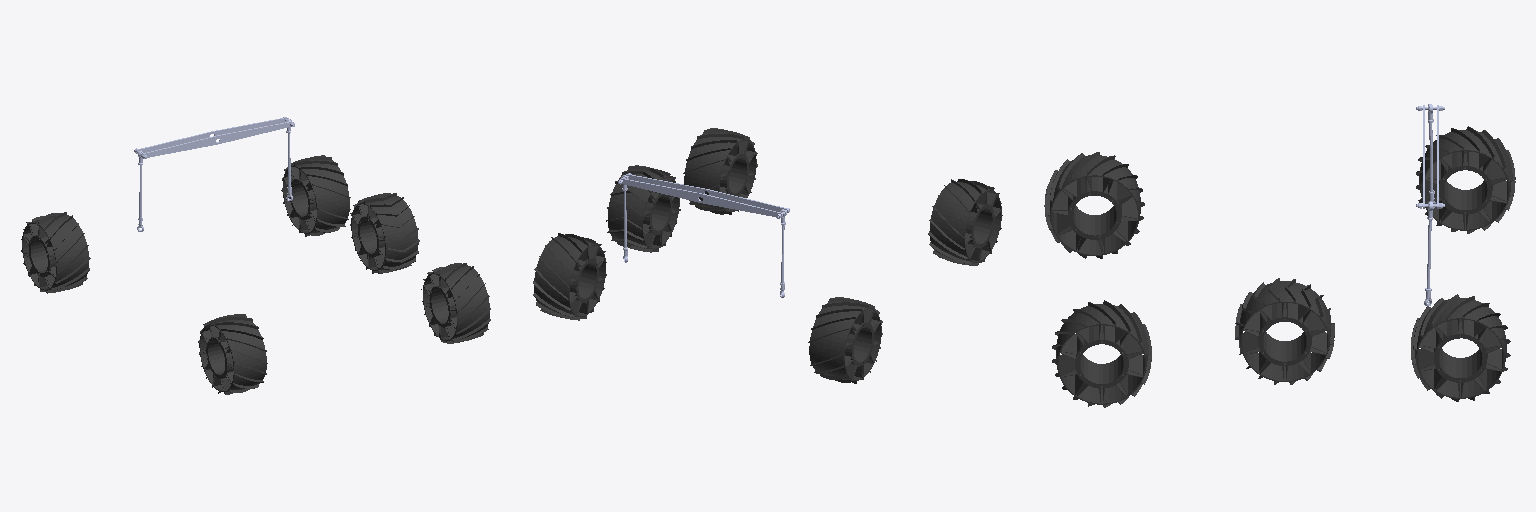
URDF robot description (roar_description_updated):
<?xml version="1.0" encoding="utf-8"?>
<!-- This URDF was automatically created by SolidWorks to URDF Exporter! Originally created by [author] ([email redacted]) 
     Commit Version: 1.6.0-4-g7f85cfe  Build Version: 1.6.7995.38578
     For more information, please see http://wiki.ros.org/sw_urdf_exporter -->
<robot
  name="roar_description_updated">
  <link
    name="base_link">
    <inertial>
      <origin
        xyz="0.639439897196177 0.209598701398295 0.110588587677082"
        rpy="0 0 0" />
      <mass
        value="10.3680124757211" />
      <inertia
        ixx="0.0528250367040668"
        ixy="8.71689026075609E-07"
        ixz="0.000283179916016542"
        iyy="0.0909179109331537"
        iyz="0.000142215895339947"
        izz="0.0532087062110425" />
    </inertial>
    <visual>
      <origin
        xyz="0 0 0"
        rpy="0 0 0" />
      <geometry>
        <mesh
          filename="package://roar_full_sus_description/meshes/base_link.STL" />
      </geometry>
      <material
        name="">
        <color
          rgba="0.792156862745098 0.819607843137255 0.933333333333333 1" />
      </material>
    </visual>
    <collision>
      <origin
        xyz="0 0 0"
        rpy="0 0 0" />
      <geometry>
        <mesh
          filename="package://roar_full_sus_description/meshes/base_link.STL" />
      </geometry>
    </collision>
  </link>
  <link
    name="rocker_rhs">
    <inertial>
      <origin
        xyz="0.131115408774192 -0.262565278318048 -0.347598485550028"
        rpy="0 0 0" />
      <mass
        value="1.55415245189339" />
      <inertia
        ixx="0.00469688806119508"
        ixy="-4.75066357212463E-05"
        ixz="-6.63077736578023E-05"
        iyy="0.00423596200810898"
        iyz="-0.00126576919537019"
        izz="0.00312774605369064" />
    </inertial>
    <visual>
      <origin
        xyz="0 0 0"
        rpy="0 0 0" />
      <geometry>
        <mesh
          filename="package://roar_full_sus_description/meshes/rocker_rhs.STL" />
      </geometry>
      <material
        name="">
        <color
          rgba="0.792156862745098 0.819607843137255 0.933333333333333 1" />
      </material>
    </visual>
    <collision>
      <origin
        xyz="0 0 0"
        rpy="0 0 0" />
      <geometry>
        <mesh
          filename="package://roar_full_sus_description/meshes/rocker_rhs.STL" />
      </geometry>
    </collision>
  </link>
  <joint
    name="rocker_rhs_joint"
    type="continuous">
    <origin
      xyz="0.155185537041214 -0.184563975751285 0.205488319881198"
      rpy="1.59483532922579 0 0" />
    <parent
      link="base_link" />
    <child
      link="rocker_rhs" />
    <axis
      xyz="1 0 0" />
  </joint>
  <link
    name="bogie_rhs">
    <inertial>
      <origin
        xyz="0.119070117211605 -0.14701039637998 0.00428618478986925"
        rpy="0 0 0" />
      <mass
        value="2.56788752677778" />
      <inertia
        ixx="0.00354223475882696"
        ixy="-9.37079105531918E-05"
        ixz="3.07031926424467E-06"
        iyy="0.00445720497043528"
        iyz="-9.23136672302244E-06"
        izz="0.00417625950740417" />
    </inertial>
    <visual>
      <origin
        xyz="0 0 0"
        rpy="0 0 0" />
      <geometry>
        <mesh
          filename="package://roar_full_sus_description/meshes/bogie_rhs.STL" />
      </geometry>
      <material
        name="">
        <color
          rgba="0.792156862745098 0.819607843137255 0.933333333333333 1" />
      </material>
    </visual>
    <collision>
      <origin
        xyz="0 0 0"
        rpy="0 0 0" />
      <geometry>
        <mesh
          filename="package://roar_full_sus_description/meshes/bogie_rhs.STL" />
      </geometry>
    </collision>
  </link>
  <joint
    name="bogie_rhs_joint"
    type="continuous">
    <origin
      xyz="0 -0.159359573468076 0.230227119045659"
      rpy="0.00791825196663619 0 0" />
    <parent
      link="rocker_rhs" />
    <child
      link="bogie_rhs" />
    <axis
      xyz="1 0 0" />
  </joint>
  <link
    name="wheel_rhs_mid">
    <inertial>
      <origin
        xyz="-1.36002320516582E-15 -0.000310098538666564 -0.0600061613680272"
        rpy="0 0 0" />
      <mass
        value="1.5976653768916" />
      <inertia
        ixx="0.00836783341696589"
        ixy="8.97177297731755E-18"
        ixz="-6.01485898202032E-16"
        iyy="0.00836775197998547"
        iyz="-6.24408080004122E-14"
        izz="0.0132446797996261" />
    </inertial>
    <visual>
      <origin
        xyz="0 0 0"
        rpy="0 0 0" />
      <geometry>
        <mesh
          filename="package://roar_full_sus_description/meshes/wheel_rhs_mid.STL" />
      </geometry>
      <material
        name="">
        <color
          rgba="0.298039215686275 0.298039215686275 0.298039215686275 1" />
      </material>
    </visual>
    <collision>
      <origin
        xyz="0 0 0"
        rpy="0 0 0" />
      <geometry>
        <mesh
          filename="package://roar_full_sus_description/meshes/wheel_rhs_mid.STL" />
      </geometry>
    </collision>
  </link>
  <joint
    name="wheel_rhs_mid_joint"
    type="continuous">
    <origin
      xyz="0.0149938388979723 -0.168040322890301 -0.223969764917061"
      rpy="-1.57079632679473 -1.55435634248108 1.57079632679473" />
    <parent
      link="bogie_rhs" />
    <child
      link="wheel_rhs_mid" />
    <axis
      xyz="0 0 1" />
  </joint>
  <link
    name="wheel_rhs_front">
    <inertial>
      <origin
        xyz="2.44249065417534E-15 -0.000305735305073218 -0.0617344149234702"
        rpy="0 0 0" />
      <mass
        value="1.55166626304695" />
      <inertia
        ixx="0.00800333368012876"
        ixy="-1.8550699171227E-16"
        ixz="1.11526988190499E-16"
        iyy="0.00800325326915848"
        iyz="2.695202927055E-12"
        izz="0.0125934306153834" />
    </inertial>
    <visual>
      <origin
        xyz="0 0 0"
        rpy="0 0 0" />
      <geometry>
        <mesh
          filename="package://roar_full_sus_description/meshes/wheel_rhs_front.STL" />
      </geometry>
      <material
        name="">
        <color
          rgba="0.298039215686275 0.298039215686275 0.298039215686275 1" />
      </material>
    </visual>
    <collision>
      <origin
        xyz="0 0 0"
        rpy="0 0 0" />
      <geometry>
        <mesh
          filename="package://roar_full_sus_description/meshes/wheel_rhs_front.STL" />
      </geometry>
    </collision>
  </link>
  <joint
    name="wheel_rhs_front_joint"
    type="continuous">
    <origin
      xyz="0.0132607736164889 -0.152989560052285 0.234508422512043"
      rpy="1.57079632679488 -1.3957417720161 -1.57079632679488" />
    <parent
      link="bogie_rhs" />
    <child
      link="wheel_rhs_front" />
    <axis
      xyz="0 0 1" />
  </joint>
  <link
    name="wheel_rhs_rear">
    <inertial>
      <origin
        xyz="-5.99520433297585E-15 -0.000151545638864561 0.0600156448463669"
        rpy="0 0 0" />
      <mass
        value="1.55167119278224" />
      <inertia
        ixx="0.00800323403290154"
        ixy="4.08213774929248E-17"
        ixz="2.90847103319624E-17"
        iyy="0.00800315362181799"
        iyz="-1.09712860745546E-10"
        izz="0.0125935069824426" />
    </inertial>
    <visual>
      <origin
        xyz="0 0 0"
        rpy="0 0 0" />
      <geometry>
        <mesh
          filename="package://roar_full_sus_description/meshes/wheel_rhs_rear.STL" />
      </geometry>
      <material
        name="">
        <color
          rgba="0.298039215686275 0.298039215686275 0.298039215686275 1" />
      </material>
    </visual>
    <collision>
      <origin
        xyz="0 0 0"
        rpy="0 0 0" />
      <geometry>
        <mesh
          filename="package://roar_full_sus_description/meshes/wheel_rhs_rear.STL" />
      </geometry>
    </collision>
  </link>
  <joint
    name="wheel_rhs_rear_joint"
    type="continuous">
    <origin
      xyz="0.0149848217212077 -0.323677087326028 -0.456982663312619"
      rpy="1.5707963267949 -1.546757324364 1.5707963267949" />
    <parent
      link="rocker_rhs" />
    <child
      link="wheel_rhs_rear" />
    <axis
      xyz="0 0 1" />
  </joint>
  <link
    name="rocker_lhs">
    <inertial>
      <origin
        xyz="0.114353485174162 -0.258908243049005 -0.349969613571573"
        rpy="0 0 0" />
      <mass
        value="1.55450622927243" />
      <inertia
        ixx="0.00469693112112497"
        ixy="4.6849930297672E-05"
        ixz="6.67737425664241E-05"
        iyy="0.00426118802832534"
        iyz="-0.00125443777455625"
        izz="0.00310258328319199" />
    </inertial>
    <visual>
      <origin
        xyz="0 0 0"
        rpy="0 0 0" />
      <geometry>
        <mesh
          filename="package://roar_full_sus_description/meshes/rocker_lhs.STL" />
      </geometry>
      <material
        name="">
        <color
          rgba="0.792156862745098 0.819607843137255 0.933333333333333 1" />
      </material>
    </visual>
    <collision>
      <origin
        xyz="0 0 0"
        rpy="0 0 0" />
      <geometry>
        <mesh
          filename="package://roar_full_sus_description/meshes/rocker_lhs.STL" />
      </geometry>
    </collision>
  </link>
  <joint
    name="rocker_lhs_joint"
    type="continuous">
    <origin
      xyz="0.888680737041209 -0.184563975751285 0.205488319881198"
      rpy="1.54676323410663 0 0" />
    <parent
      link="base_link" />
    <child
      link="rocker_lhs" />
    <axis
      xyz="1 0 0" />
  </joint>
  <link
    name="bogie_lhs">
    <inertial>
      <origin
        xyz="-0.121779873984684 -0.147010375694811 0.0042861844014257"
        rpy="0 0 0" />
      <mass
        value="2.56788785839281" />
      <inertia
        ixx="0.0035422335391282"
        ixy="-9.37079063515802E-05"
        ixz="3.07031970176367E-06"
        iyy="0.00445720400232866"
        iyz="-9.23135123405275E-06"
        izz="0.00417625930663999" />
    </inertial>
    <visual>
      <origin
        xyz="0 0 0"
        rpy="0 0 0" />
      <geometry>
        <mesh
          filename="package://roar_full_sus_description/meshes/bogie_lhs.STL" />
      </geometry>
      <material
        name="">
        <color
          rgba="0.792156862745098 0.819607843137255 0.933333333333333 1" />
      </material>
    </visual>
    <collision>
      <origin
        xyz="0 0 0"
        rpy="0 0 0" />
      <geometry>
        <mesh
          filename="package://roar_full_sus_description/meshes/bogie_lhs.STL" />
      </geometry>
    </collision>
  </link>
  <joint
    name="bogie_lhs_joint"
    type="continuous">
    <origin
      xyz="0.00464520000000102 -0.16165350255828 0.228622276059538"
      rpy="3.01538682395243 0 3.14159265358979" />
    <parent
      link="rocker_lhs" />
    <child
      link="bogie_lhs" />
    <axis
      xyz="1 0 0" />
  </joint>
  <link
    name="wheel_lhs_mid">
    <inertial>
      <origin
        xyz="-1.13797860024079E-15 0.000310098538664275 0.0600061613680265"
        rpy="0 0 0" />
      <mass
        value="1.59766537689162" />
      <inertia
        ixx="0.0083678334169661"
        ixy="1.40469536390937E-16"
        ixz="-2.31970124591998E-16"
        iyy="0.0083677519799858"
        iyz="-6.25205615187925E-14"
        izz="0.0132446797996263" />
    </inertial>
    <visual>
      <origin
        xyz="0 0 0"
        rpy="0 0 0" />
      <geometry>
        <mesh
          filename="package://roar_full_sus_description/meshes/wheel_lhs_mid.STL" />
      </geometry>
      <material
        name="">
        <color
          rgba="0.298039215686275 0.298039215686275 0.298039215686275 1" />
      </material>
    </visual>
    <collision>
      <origin
        xyz="0 0 0"
        rpy="0 0 0" />
      <geometry>
        <mesh
          filename="package://roar_full_sus_description/meshes/wheel_lhs_mid.STL" />
      </geometry>
    </collision>
  </link>
  <joint
    name="wheel_lhs_mid_joint"
    type="continuous">
    <origin
      xyz="-0.105848638897971 -0.152989560052285 0.234508422512043"
      rpy="-1.5707963267949 1.4686235898458 1.5707963267949" />
    <parent
      link="bogie_lhs" />
    <child
      link="wheel_lhs_mid" />
    <axis
      xyz="0 0 1" />
  </joint>
  <link
    name="wheel_lhs_front">
    <inertial>
      <origin
        xyz="3.33066907387547E-16 0.000305735786541306 0.060015644846366"
        rpy="0 0 0" />
      <mass
        value="1.55167119278224" />
      <inertia
        ixx="0.00800323403290158"
        ixy="1.50424421747868E-16"
        ixz="-3.62075991513633E-17"
        iyy="0.00800315362181788"
        iyz="-1.09712870865019E-10"
        izz="0.0125935069824427" />
    </inertial>
    <visual>
      <origin
        xyz="0 0 0"
        rpy="0 0 0" />
      <geometry>
        <mesh
          filename="package://roar_full_sus_description/meshes/wheel_lhs_front.STL" />
      </geometry>
      <material
        name="">
        <color
          rgba="0.298039215686275 0.298039215686275 0.298039215686275 1" />
      </material>
    </visual>
    <collision>
      <origin
        xyz="0 0 0"
        rpy="0 0 0" />
      <geometry>
        <mesh
          filename="package://roar_full_sus_description/meshes/wheel_lhs_front.STL" />
      </geometry>
    </collision>
  </link>
  <joint
    name="wheel_lhs_front_joint"
    type="continuous">
    <origin
      xyz="-0.105834821721208 -0.168040322890301 -0.223969764917061"
      rpy="-1.5707963267949 1.4686235898458 1.5707963267949" />
    <parent
      link="bogie_lhs" />
    <child
      link="wheel_lhs_front" />
    <axis
      xyz="0 0 1" />
  </joint>
  <link
    name="wheel_lhs_rear">
    <inertial>
      <origin
        xyz="-6.38378239159465E-15 0.000305735305074523 0.0617344149234687"
        rpy="0 0 0" />
      <mass
        value="1.55166626304694" />
      <inertia
        ixx="0.00800333368012842"
        ixy="1.74222133913024E-16"
        ixz="2.44870858245554E-16"
        iyy="0.00800325326915783"
        iyz="2.69451579435935E-12"
        izz="0.0125934306153828" />
    </inertial>
    <visual>
      <origin
        xyz="0 0 0"
        rpy="0 0 0" />
      <geometry>
        <mesh
          filename="package://roar_full_sus_description/meshes/wheel_lhs_rear.STL" />
      </geometry>
      <material
        name="">
        <color
          rgba="0.298039215686275 0.298039215686275 0.298039215686275 1" />
      </material>
    </visual>
    <collision>
      <origin
        xyz="0 0 0"
        rpy="0 0 0" />
      <geometry>
        <mesh
          filename="package://roar_full_sus_description/meshes/wheel_lhs_rear.STL" />
      </geometry>
    </collision>
  </link>
  <joint
    name="wheel_lhs_rear_joint"
    type="continuous">
    <origin
      xyz="0.108765573616488 -0.319091829106826 -0.460196062592256"
      rpy="-1.5707963267949 -1.54676323410662 -1.5707963267949" />
    <parent
      link="rocker_lhs" />
    <child
      link="wheel_lhs_rear" />
    <axis
      xyz="0 0 1" />
  </joint>
  <link
    name="differential">
    <inertial>
      <origin
        xyz="5.15099074505088E-12 2.7273711067366E-11 -0.0350042628843284"
        rpy="0 0 0" />
      <mass
        value="0.136251102380295" />
      <inertia
        ixx="1.1956134192064E-05"
        ixy="8.37967568622105E-05"
        ixz="-1.05358339629433E-15"
        iyy="0.00263346680416634"
        iyz="1.0985436381189E-14"
        izz="0.00263909078613064" />
    </inertial>
    <visual>
      <origin
        xyz="0 0 0"
        rpy="0 0 0" />
      <geometry>
        <mesh
          filename="package://roar_full_sus_description/meshes/differential.STL" />
      </geometry>
      <material
        name="">
        <color
          rgba="0.792156862745098 0.819607843137255 0.933333333333333 1" />
      </material>
    </visual>
    <collision>
      <origin
        xyz="0 0 0"
        rpy="0 0 0" />
      <geometry>
        <mesh
          filename="package://roar_full_sus_description/meshes/differential.STL" />
      </geometry>
    </collision>
  </link>
  <joint
    name="differential_joint"
    type="continuous">
    <origin
      xyz="0.644180737041204 0.158246024248716 0.205488319881198"
      rpy="1.5707963267949 -0.00541059943097646 0" />
    <parent
      link="base_link" />
    <child
      link="differential" />
    <axis
      xyz="0 0 1" />
  </joint>
  <link
    name="differential_rod_lhs">
    <inertial>
      <origin
        xyz="7.33417734206654E-05 -0.138411098373041 0.00379756469269407"
        rpy="0 0 0" />
      <mass
        value="0.0191838054983792" />
      <inertia
        ixx="4.0654710918812E-05"
        ixy="2.04613642346489E-08"
        ixz="-1.95180200656937E-08"
        iyy="4.34733197865607E-07"
        iyz="1.10792975259271E-06"
        izz="4.06902005207246E-05" />
    </inertial>
    <visual>
      <origin
        xyz="0 0 0"
        rpy="0 0 0" />
      <geometry>
        <mesh
          filename="package://roar_full_sus_description/meshes/differential_rod_lhs.STL" />
      </geometry>
      <material
        name="">
        <color
          rgba="0.792156862745098 0.819607843137255 0.933333333333333 1" />
      </material>
    </visual>
    <collision>
      <origin
        xyz="0 0 0"
        rpy="0 0 0" />
      <geometry>
        <mesh
          filename="package://roar_full_sus_description/meshes/differential_rod_lhs.STL" />
      </geometry>
    </collision>
  </link>
  <joint
    name="differential_rod_lhs_upper_joint"
    type="continuous">
    <origin
      xyz="0.271224465091733 -0.00219848547363294 -0.0351540227436718"
      rpy="0.00399967332091963 -0.00248087300799256 -0.00551479242983345" />
    <parent
      link="differential" />
    <child
      link="differential_rod_lhs" />
    <axis
      xyz="0.000512948419186191 -0.999621968411486 0.0274892188514812" />
  </joint>
  <link
    name="differential_rod_rhs">
    <inertial>
      <origin
        xyz="6.61214739459126E-05 -0.12434009893518 0.0034106174974991"
        rpy="0 0 0" />
      <mass
        value="0.019183805065994" />
      <inertia
        ixx="4.06547109136038E-05"
        ixy="2.04614293437111E-08"
        ixz="-1.95180294714358E-08"
        iyy="4.34733193799601E-07"
        iyz="1.10792978302616E-06"
        izz="4.06902005301812E-05" />
    </inertial>
    <visual>
      <origin
        xyz="0 0 0"
        rpy="0 0 0" />
      <geometry>
        <mesh
          filename="package://roar_full_sus_description/meshes/differential_rod_rhs.STL" />
      </geometry>
      <material
        name="">
        <color
          rgba="0.792156862745098 0.819607843137255 0.933333333333333 1" />
      </material>
    </visual>
    <collision>
      <origin
        xyz="0 0 0"
        rpy="0 0 0" />
      <geometry>
        <mesh
          filename="package://roar_full_sus_description/meshes/differential_rod_rhs.STL" />
      </geometry>
    </collision>
  </link>
  <joint
    name="differential_rod_rhs_upper_joint"
    type="continuous">
    <origin
      xyz="-0.271206788404618 0.0010475326557825 -0.0351089268842639"
      rpy="0.0420888104898789 -0.000585979931586597 -0.00249440918738321" />
    <parent
      link="differential" />
    <child
      link="differential_rod_rhs" />
    <axis
      xyz="0.00051294841916643 -0.999621968411487 0.0274892188514603" />
  </joint>
</robot>

--- Facts derived from the render (not from the file) ---
3 views of the same robot in one strip: view 1: azimuth 30°, elevation 25°; view 2: azimuth 150°, elevation 25°; view 3: azimuth 270°, elevation 25° (orthographic).
Model roar_description_updated with 14 links and 13 joints (13 continuous), rooted at base_link, posed every joint at zero.
Links seen in each view (by area): view 1: wheel_lhs_mid, wheel_lhs_front, wheel_rhs_front, wheel_rhs_rear, wheel_lhs_rear, differential; view 2: wheel_rhs_rear, wheel_lhs_rear, wheel_rhs_front, wheel_lhs_front, wheel_lhs_mid, differential; view 3: wheel_rhs_front, wheel_lhs_rear, wheel_lhs_mid, wheel_lhs_front, wheel_rhs_rear, differential.
Boxes of the visible links, left/top/right/bottom form: wheel_lhs_mid: left=350, top=193, right=419, bottom=273; wheel_lhs_front: left=421, top=263, right=490, bottom=343; wheel_rhs_front: left=198, top=314, right=267, bottom=394; wheel_rhs_rear: left=21, top=212, right=90, bottom=293; wheel_lhs_rear: left=281, top=155, right=350, bottom=236; differential: left=134, top=117, right=294, bottom=158; wheel_rhs_rear: left=808, top=297, right=882, bottom=383; wheel_lhs_rear: left=533, top=233, right=606, bottom=320; wheel_rhs_front: left=928, top=179, right=1002, bottom=265; wheel_lhs_front: left=683, top=128, right=757, bottom=214; wheel_lhs_mid: left=606, top=165, right=680, bottom=252; differential: left=618, top=173, right=789, bottom=218; wheel_rhs_front: left=1044, top=152, right=1144, bottom=258; wheel_lhs_rear: left=1411, top=294, right=1510, bottom=401; wheel_lhs_mid: left=1235, top=278, right=1334, bottom=384; wheel_lhs_front: left=1052, top=300, right=1151, bottom=407; wheel_rhs_rear: left=1416, top=126, right=1515, bottom=233; differential: left=1416, top=105, right=1444, bottom=208.
Size in the robot's own frame: 1.07 by 1.17 by 0.4898 metres.
Meshes: 14 distinct files referenced, 8 mesh visuals loaded (8 binary STL); not drawn: 6 (reference not matched to a file when rendering).